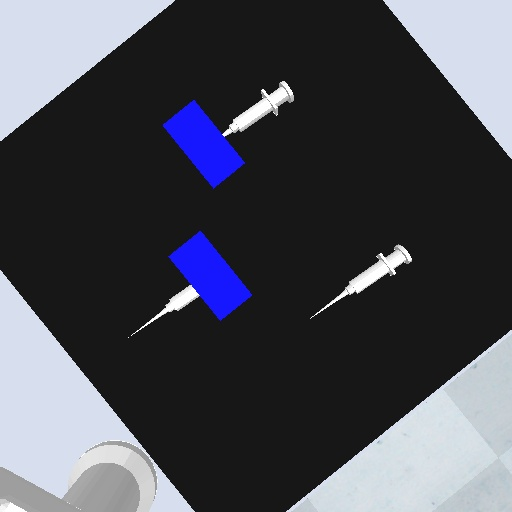jeringuilla: (306, 241, 417, 323), (218, 79, 298, 142), (124, 283, 202, 341)
